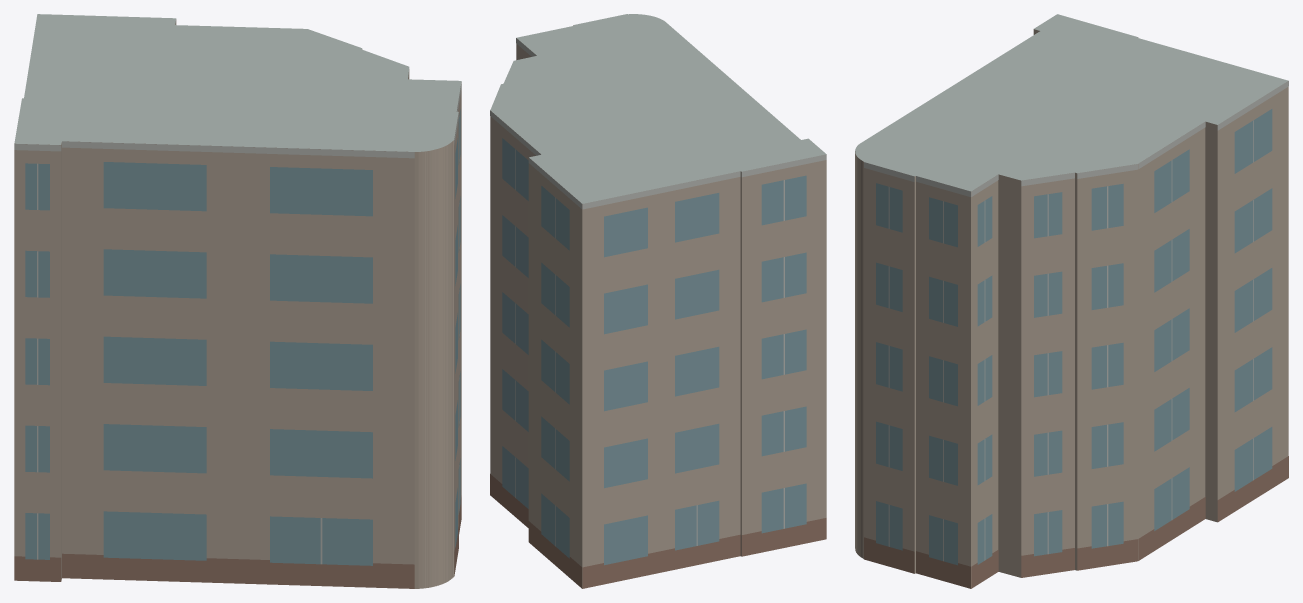
File: survey-upis-32731056.glb
3 views of the same model, side by side, from view 1: azimuth 30°, elevation 25°; view 2: azimuth 150°, elevation 25°; view 3: azimuth 270°, elevation 25° (orthographic). The views are drawn at different scales.
Visible parts, largest first — view 1: survey-upis-32731056.tmp; view 2: survey-upis-32731056.tmp; view 3: survey-upis-32731056.tmp.
Boxes of the visible parts, x1,y1,x2,y2 form: survey-upis-32731056.tmp: (14, 14, 461, 588); survey-upis-32731056.tmp: (490, 14, 826, 588); survey-upis-32731056.tmp: (855, 14, 1288, 588).
Bounding box in the file's own units: 16.1 × 16.8 × 16.62.
